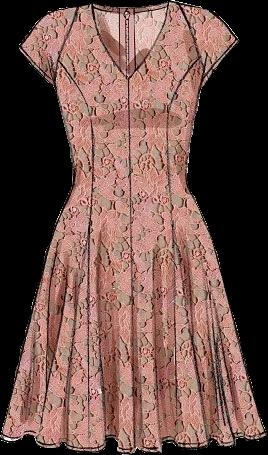Bodice: (51, 1, 205, 181)
Hemline: (0, 430, 267, 454)
Neckline: (91, 0, 172, 82)
Skirt: (0, 182, 264, 454)
Sleeve: (19, 7, 77, 83), (180, 3, 238, 79)
Sleeveline: (47, 5, 80, 82), (180, 2, 209, 80)
